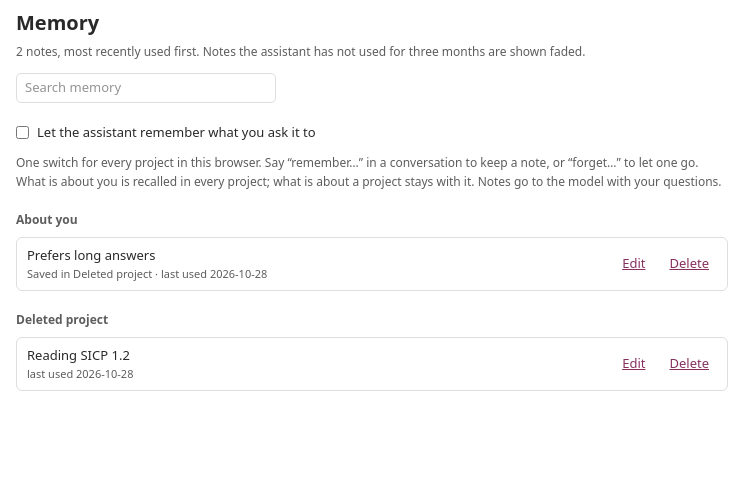
Test: memory page › corrects and deletes a note
Expected: the element "Deleted project" shows "Reading SICP 1.2", [27,346,130,364]
Click the button with aria-label "Edit “Prefers long answers”": (634, 264) [614,246,654,282]
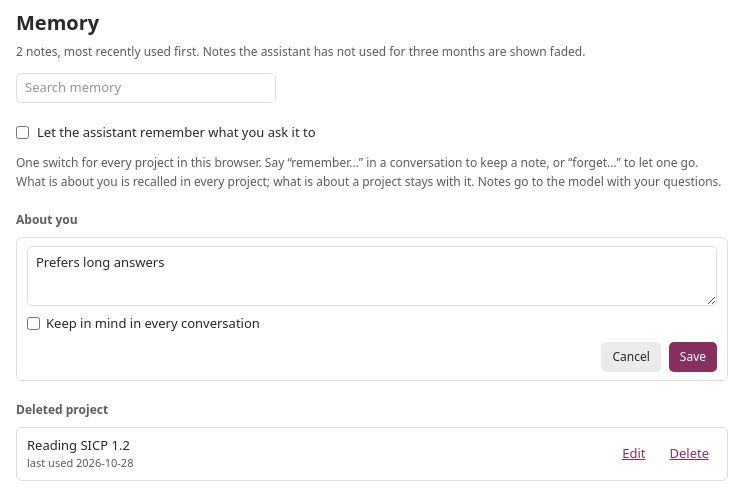
Replace the text in the text box named "Note" with "Prefers short answers": (372, 276) [27,246,717,306]
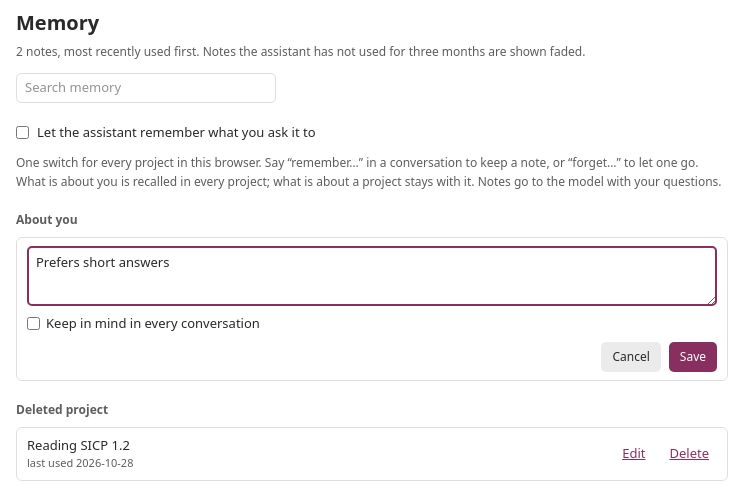
Click the checkbox labelled "Keep in mind in every conversation": (34, 324) [27,317,40,330]
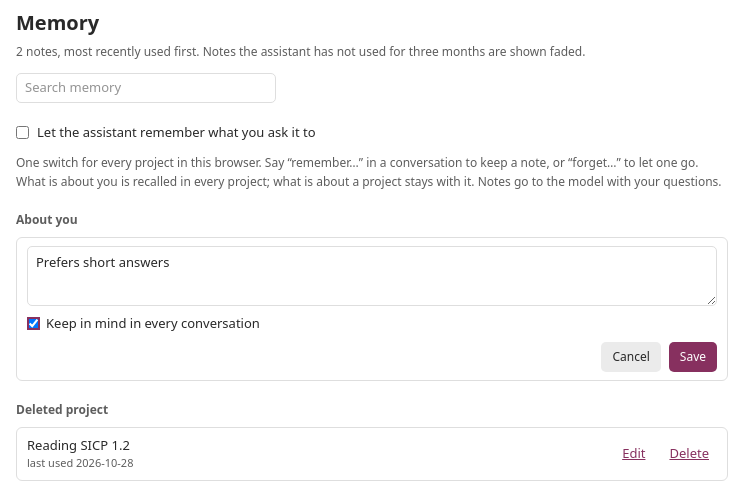
Click the button "Save": (693, 357) [669,342,717,372]
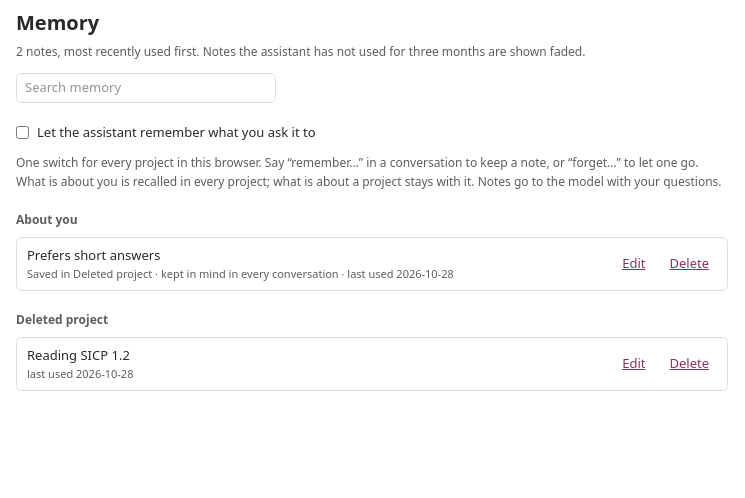
Expected: the text "Prefers short answers" is shown, [27,246,160,264]
Click the button with aria-label "Delete “Reading SICP 1.2”": (689, 364) [662,346,717,382]
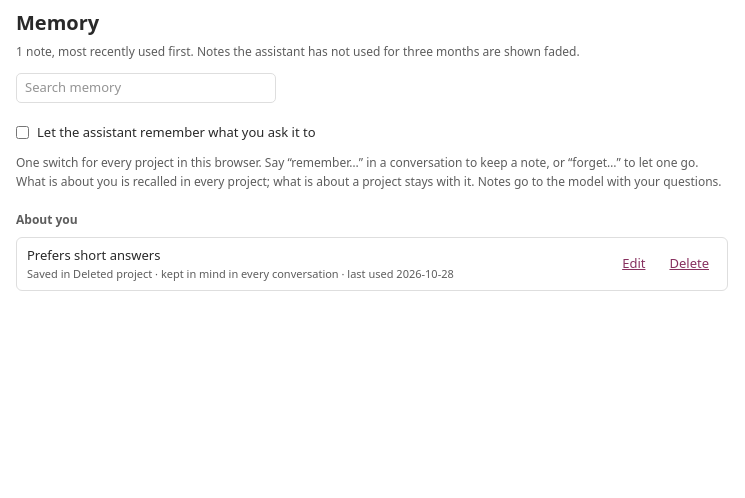
Expected: the text "Reading SICP 1.2" is gone
